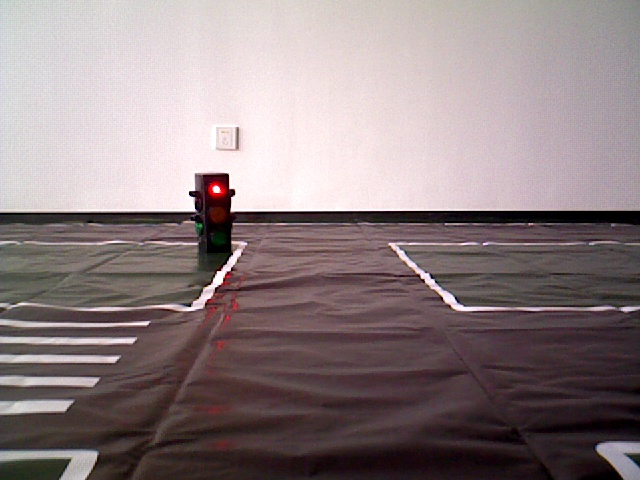red: (193, 179, 229, 253)
